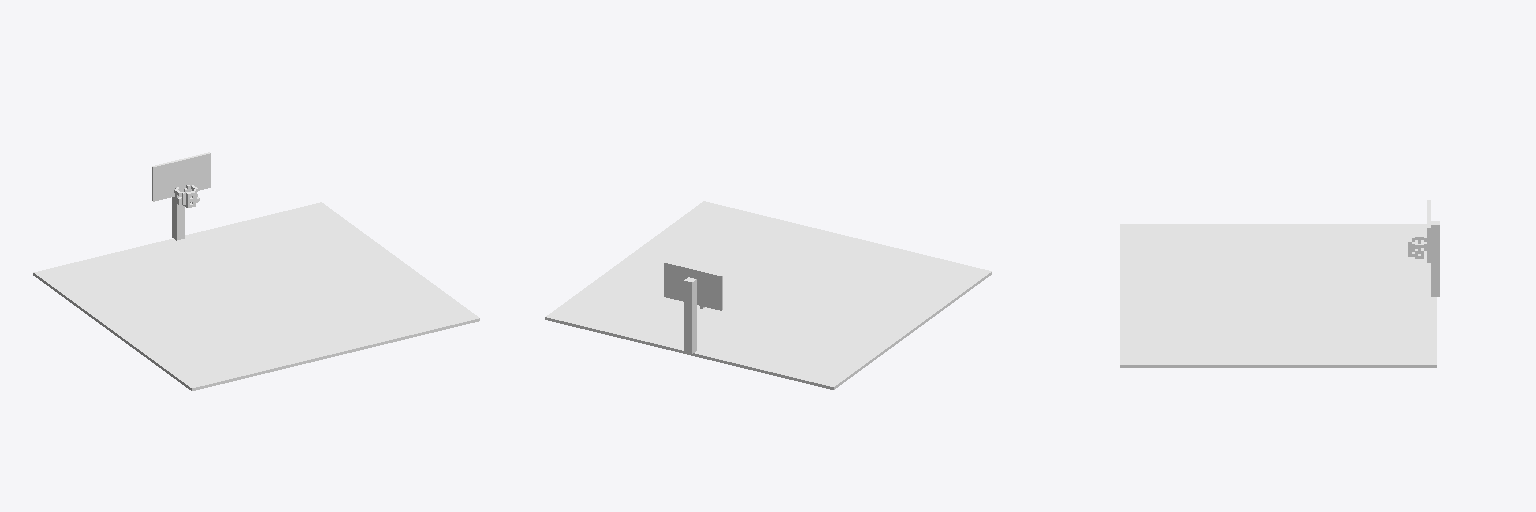
File: Court.vox.obj
3 renders of one model, left to right at view 1: azimuth 30°, elevation 25°; view 2: azimuth 150°, elevation 25°; view 3: azimuth 270°, elevation 25°, orthographic.
Parts seen in each view (by area): view 1: object 1; view 2: object 1; view 3: object 1.
Boxes of the visible parts, box(x1,y1,x2,y2) form: object 1: box(33, 152, 479, 390); object 1: box(545, 201, 991, 389); object 1: box(1120, 200, 1439, 367).
Bounding box in the file's own units: 10.5 × 2.9 × 10.1.